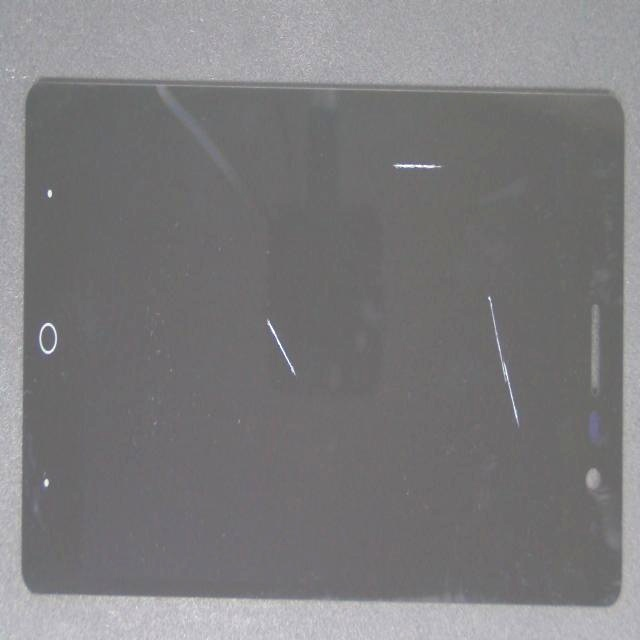scratch: (284, 292, 640, 557), (176, 242, 447, 544), (215, 51, 598, 213)
